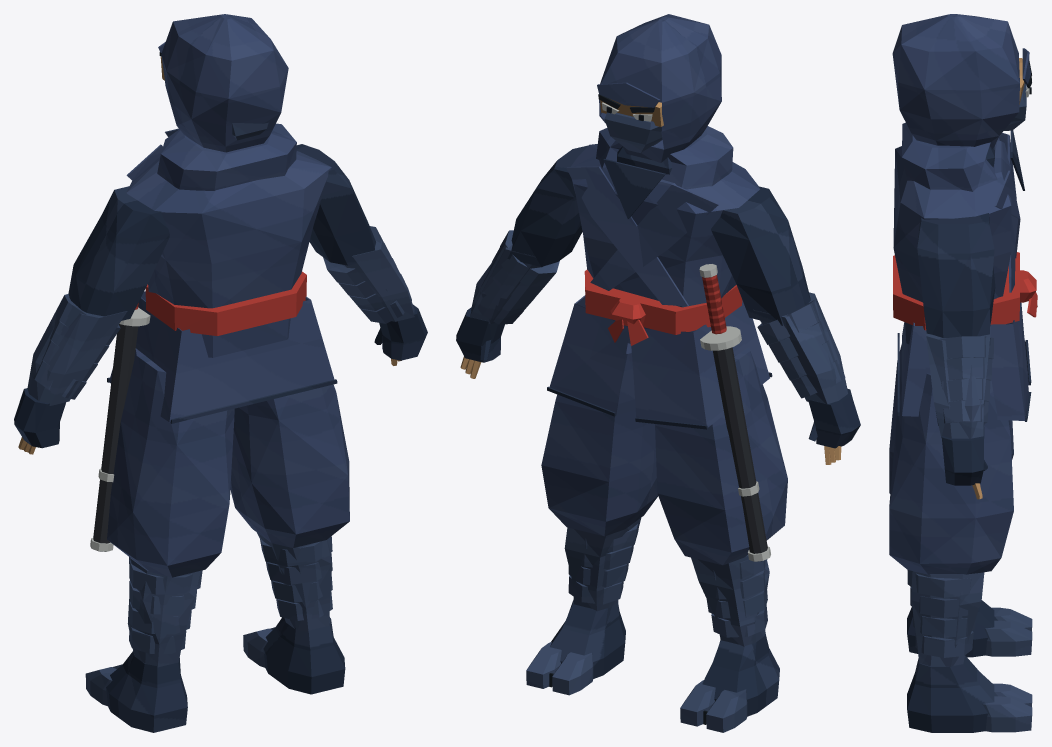
3 renders of one model, left to right at view 1: azimuth 30°, elevation 25°; view 2: azimuth 150°, elevation 25°; view 3: azimuth 270°, elevation 25°, orthographic. The views are drawn at different scales.
Size of the model in its own units: 1.06 by 1.7 by 0.3436.
1 material, 1 textured.
